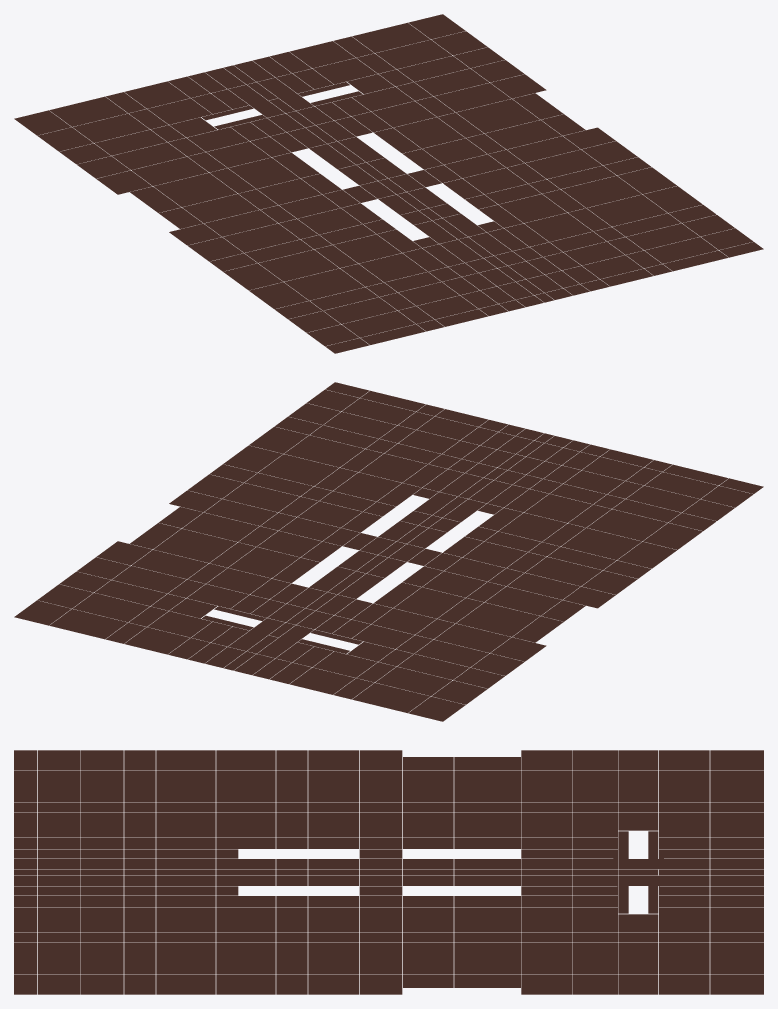
Rendered from Gatroom_FloorTiles_150822_Faces.fbx.
3 renders of one model, top to bottom at view 1: azimuth 30°, elevation 25°; view 2: azimuth 150°, elevation 25°; view 3: azimuth 270°, elevation 25°, orthographic. The views are drawn at different scales.
Visible parts, largest first — view 1: PreBevelClean.001; view 2: PreBevelClean.001; view 3: PreBevelClean.001.
Part boxes in pixels (<box>): PreBevelClean.001: <box>14,14,763,353</box>; PreBevelClean.001: <box>14,382,763,721</box>; PreBevelClean.001: <box>14,750,763,994</box>.
Bounding box in the file's own units: 2268 × 8.59e-05 × 2940.
